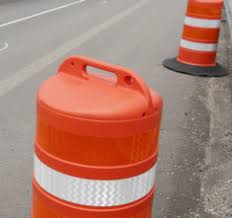barrel: (37, 55, 155, 218), (176, 1, 221, 64)
